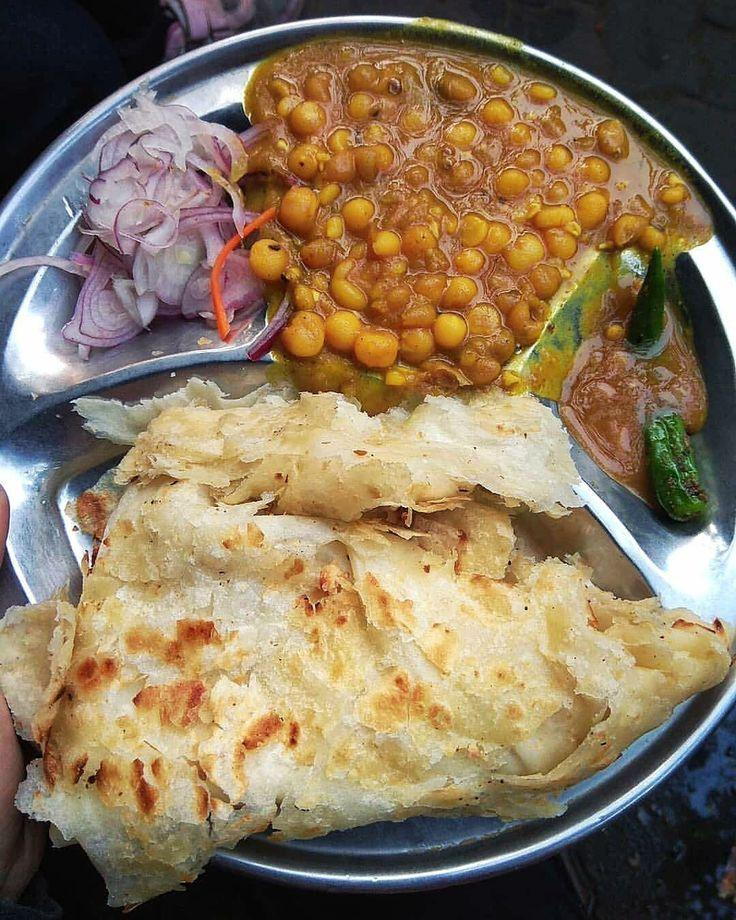chole: (254, 73, 627, 362)
salad: (52, 113, 273, 358)
